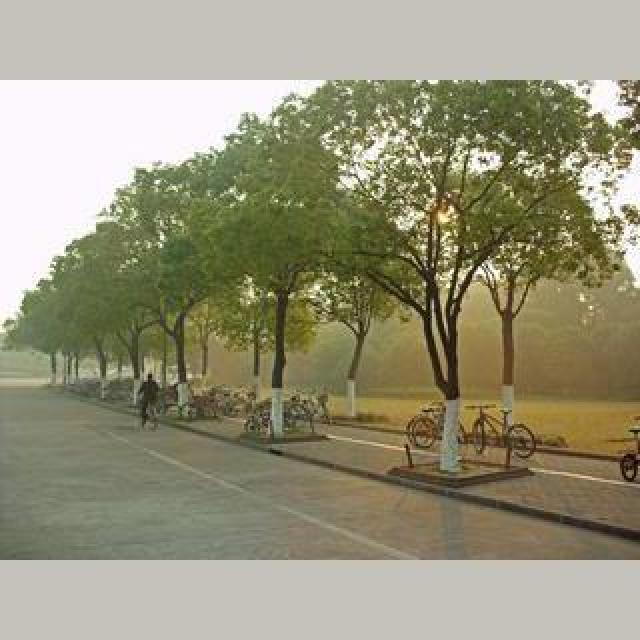MC-Bike: (136, 372, 162, 432)
Person: (468, 404, 536, 462), (408, 400, 450, 452)
